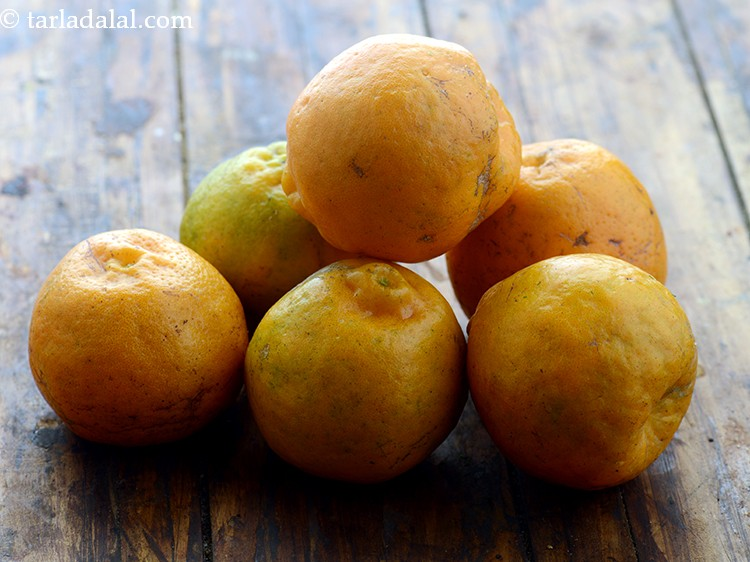Orange: (281, 33, 521, 263), (465, 254, 697, 490), (243, 259, 468, 479), (29, 229, 249, 449)
